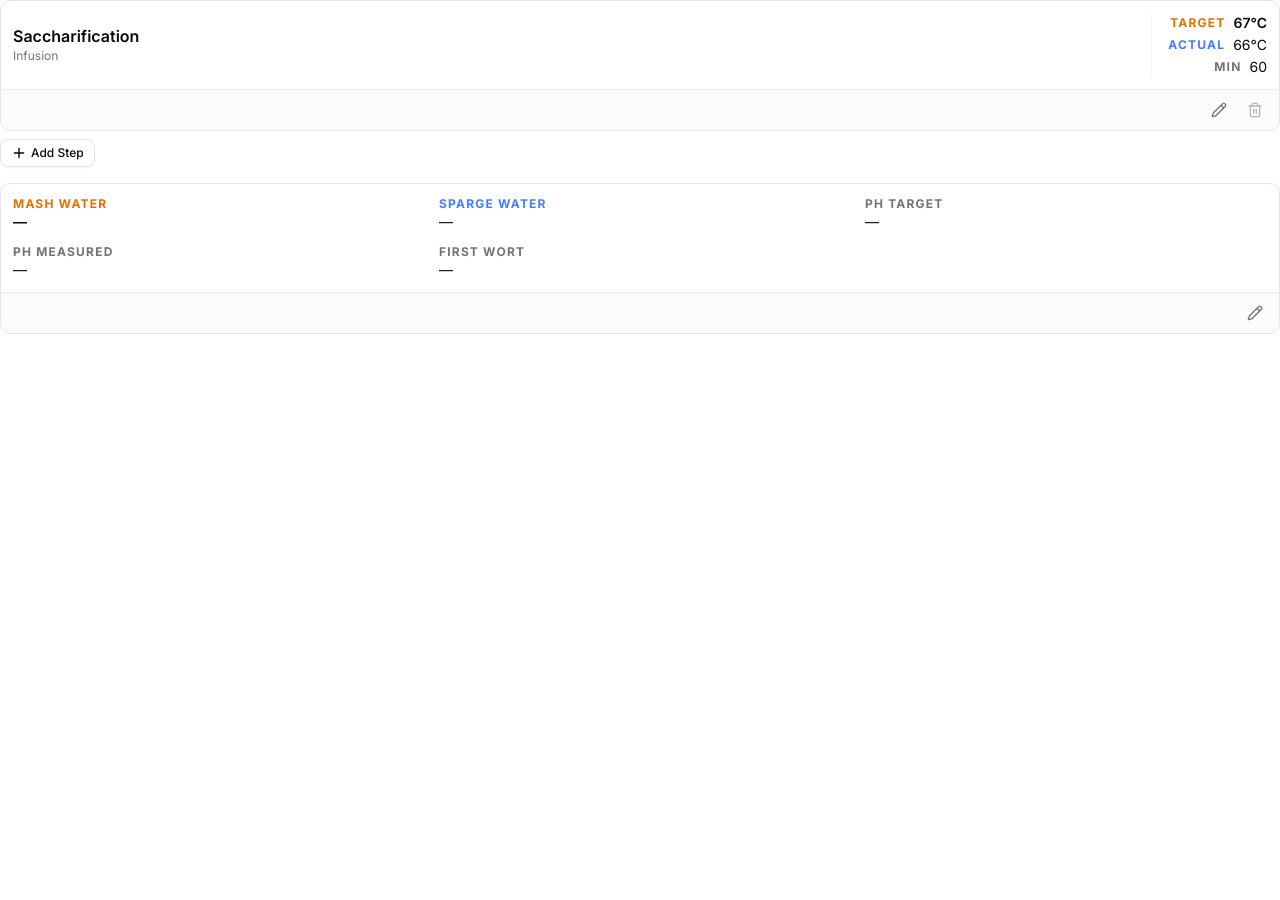
MashSection › mash parameters card › pencil button opens the edit mash parameters dialog
This screenshot has width=1280, height=900.
Click the button named "edit mash parameters" at point(1255, 313), box [1239,297,1271,329]
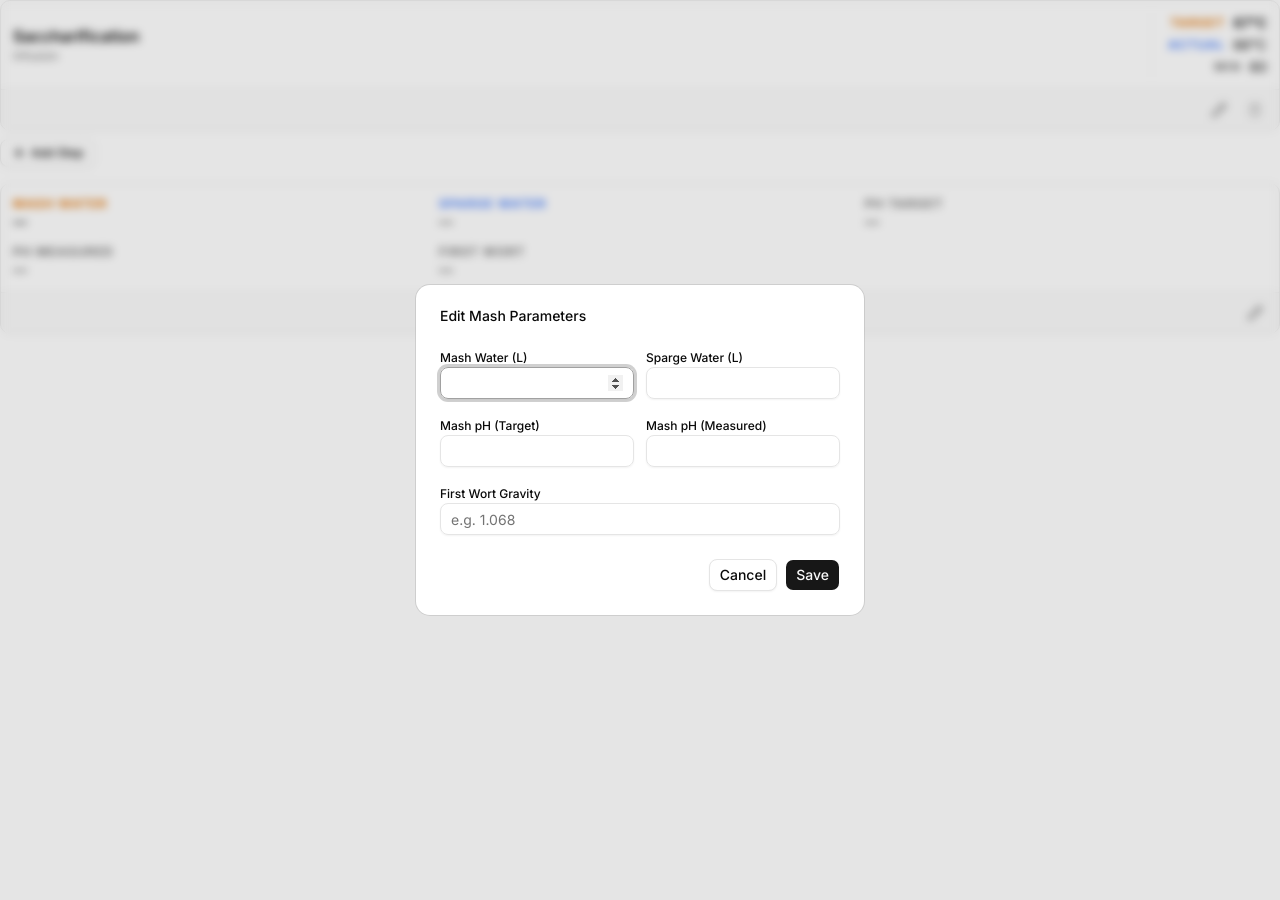
Expected: the heading "Edit Mash Parameters" is shown, [440,307,586,324]
